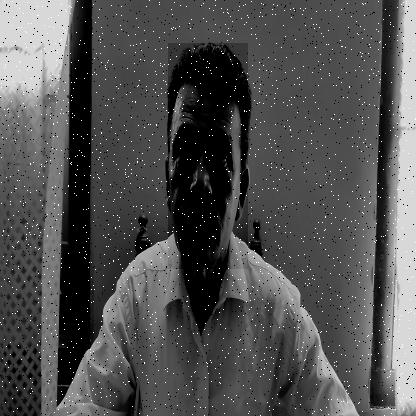Normal: (168, 44, 248, 270)
